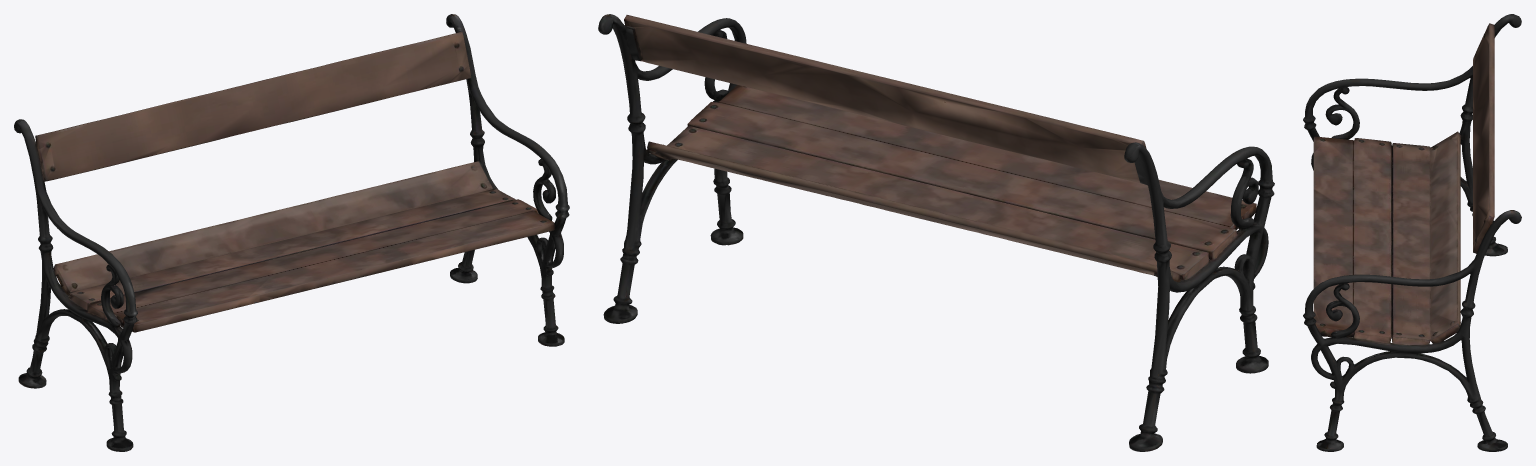
The model's file is park-bench.glb.
The picture shows the model from 3 angles, left to right: view 1: azimuth 30°, elevation 25°; view 2: azimuth 150°, elevation 25°; view 3: azimuth 270°, elevation 25°; orthographic projection. The views are drawn at different scales.
Size of the model in its own units: 2 by 1.07 by 0.8975.
Materials: 1 (1 with a texture image).
